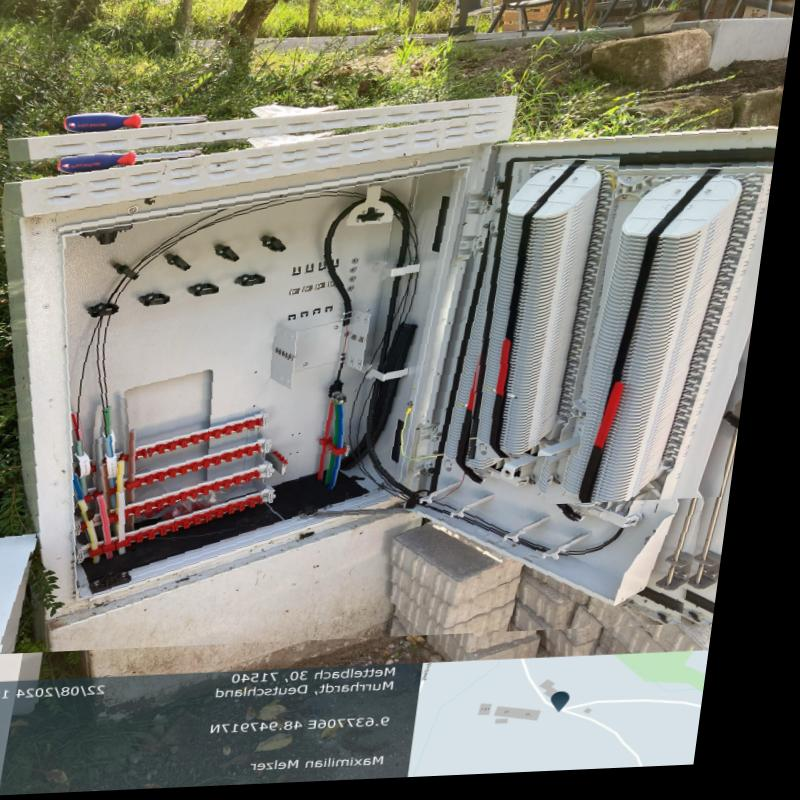NT-Gehause: (10, 112, 780, 653)
Spleiskassetten: (561, 178, 770, 509), (479, 167, 624, 463)
